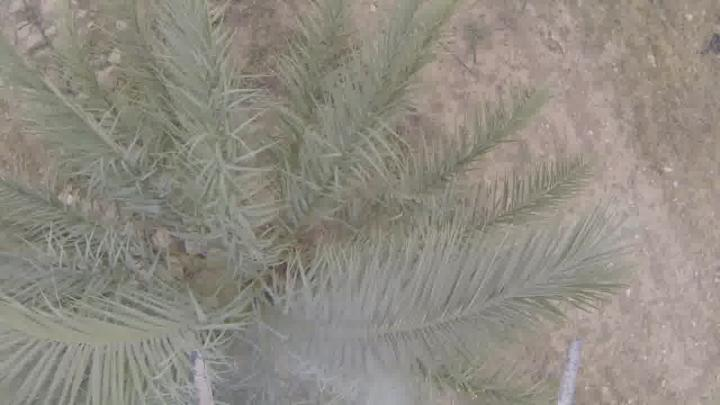Date-Palm-Crown: (5, 55, 468, 404)
